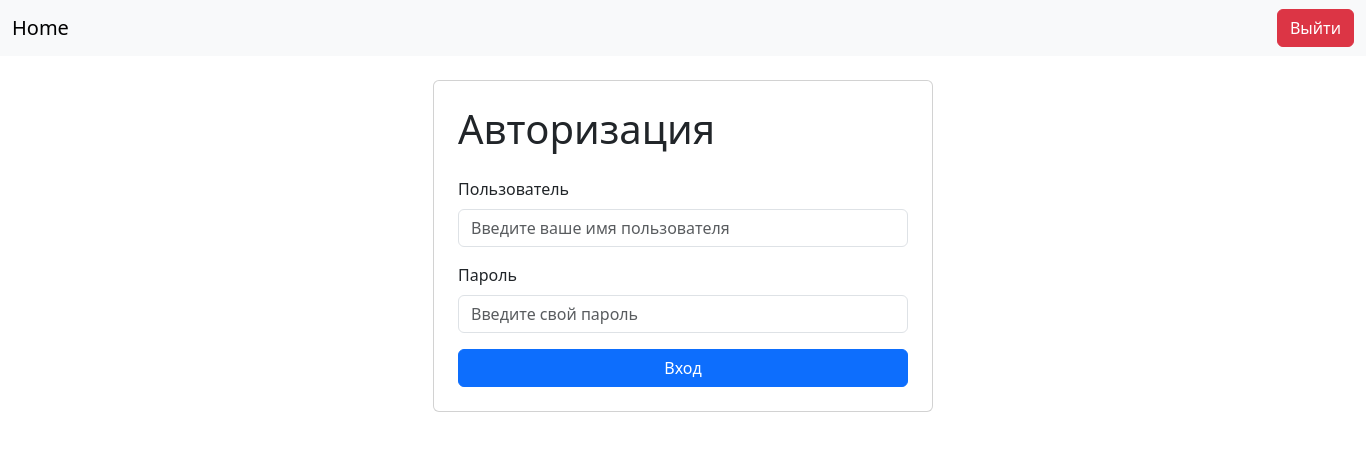
LoginView › должен отображать сообщение об ошибке при коротком имени пользователя
The image size is (1366, 454).
Type "ab" into the field with id "username" at (683, 228), box [458,209,908,247]
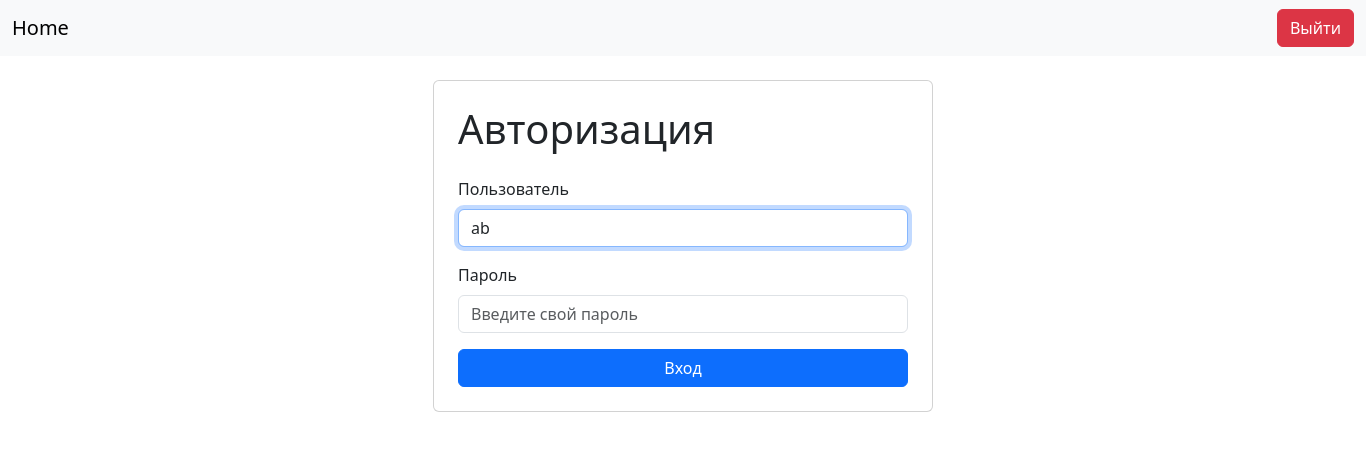
Type "validpassword" into the password field labelled "Пароль" at (683, 314), box [458,295,908,333]
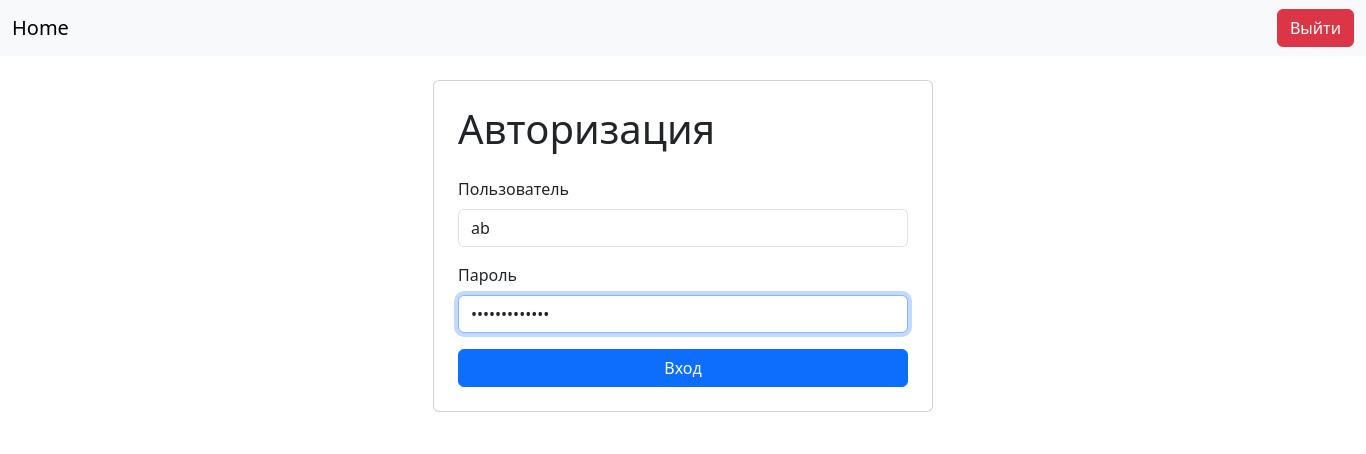
Click the button "Вход" at (683, 368), box [458,349,908,387]
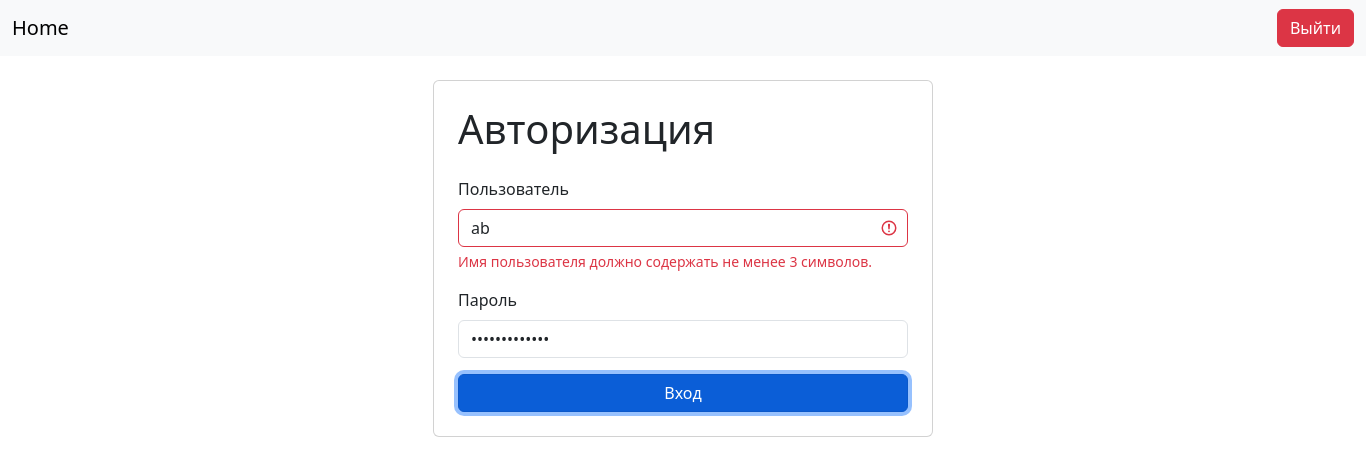
expect the element with class "invalid-feedback" reads "Имя пользователя должно содержать не менее 3 символов.": met, box [458,251,908,272]
